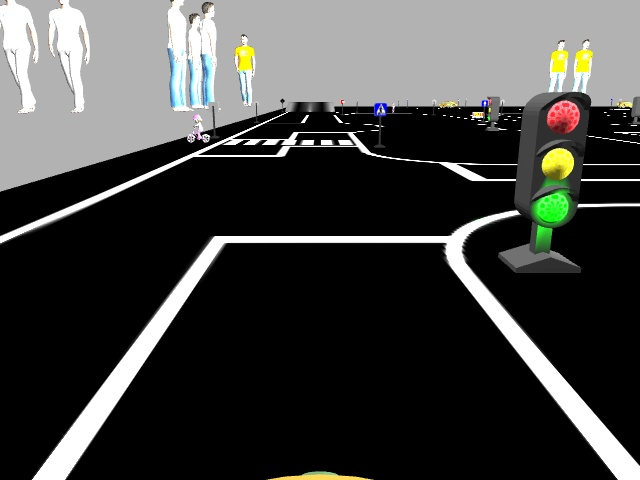Crosswalk: (373, 102, 385, 116)
Pedestrian: (184, 113, 211, 143)
TrafficLight: (513, 96, 594, 226)
